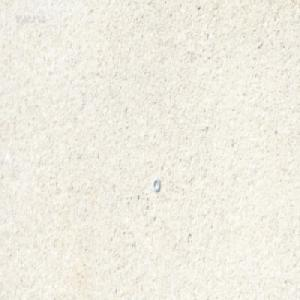Washer: (152, 177, 160, 192)
